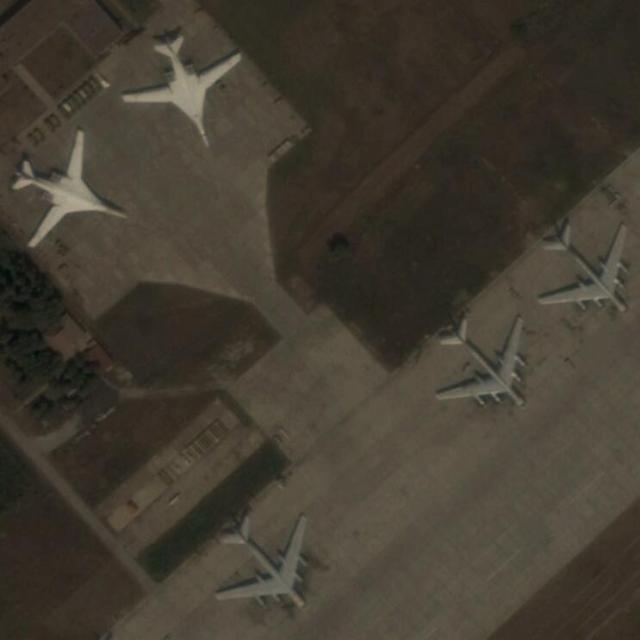fighter jet: (125, 26, 236, 138), (3, 129, 115, 239), (208, 504, 318, 614), (431, 310, 532, 416), (536, 214, 633, 320)
